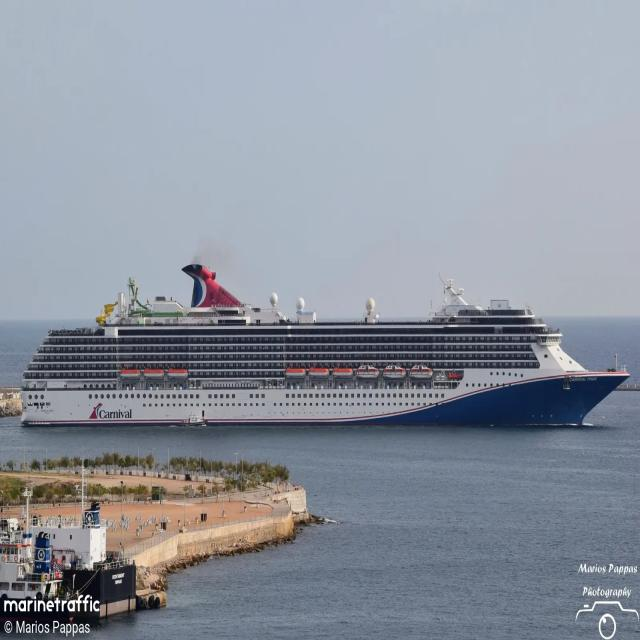Cruise: (21, 263, 630, 426)
Tug: (0, 528, 80, 628)
